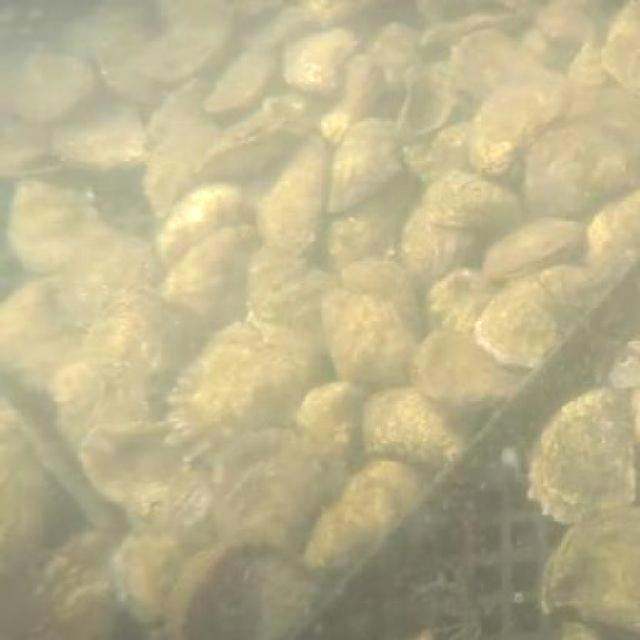Oyster-Closed: (171, 323, 338, 446), (13, 184, 162, 302), (305, 463, 433, 600), (530, 388, 638, 527), (211, 429, 337, 543), (473, 269, 612, 370), (244, 249, 375, 355), (196, 100, 324, 203), (160, 231, 262, 359), (80, 294, 193, 403), (78, 425, 214, 515), (0, 279, 97, 400), (144, 80, 217, 237), (453, 31, 577, 121), (539, 510, 639, 617), (0, 418, 59, 593), (203, 550, 318, 639), (326, 171, 428, 269), (93, 26, 223, 102), (416, 328, 533, 412), (52, 360, 158, 452), (527, 126, 639, 213), (469, 84, 565, 184), (398, 211, 485, 321), (258, 137, 332, 266), (324, 291, 414, 390), (155, 185, 255, 273), (34, 541, 117, 637), (291, 381, 380, 466), (414, 0, 534, 63), (341, 258, 427, 343), (370, 390, 460, 470), (6, 52, 99, 124), (49, 109, 151, 173), (564, 35, 639, 122), (425, 170, 525, 233), (110, 535, 185, 619), (164, 546, 230, 639), (333, 58, 413, 133), (537, 0, 617, 73), (204, 50, 273, 134), (329, 137, 400, 215), (145, 0, 273, 42), (282, 29, 359, 97), (430, 270, 510, 335), (253, 0, 344, 54), (399, 124, 473, 188), (369, 23, 436, 84), (586, 190, 639, 267), (601, 0, 639, 106), (59, 0, 142, 41), (321, 0, 407, 31), (602, 324, 639, 395), (409, 0, 505, 22), (491, 0, 547, 18)
Oyster-Open: (482, 220, 588, 282), (395, 62, 459, 152), (0, 119, 64, 183)
